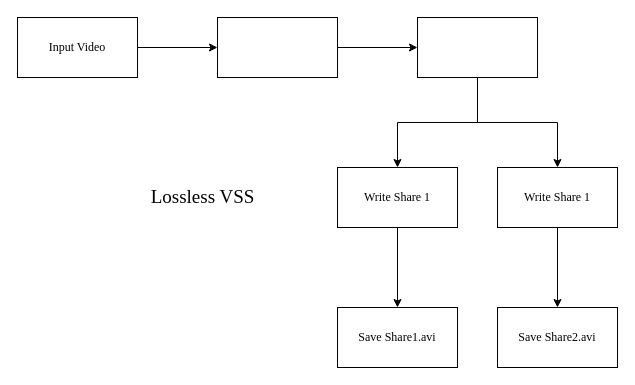
Some shapes in this 635 by 385 pixel diagram are drawn without their labels. The shapes that lost their labels are listed below. From the top down, each one's centre as x and y in pixels, then its label:
At (277,47): "Extract Frame".
At (477,47): "Apply VSS".
